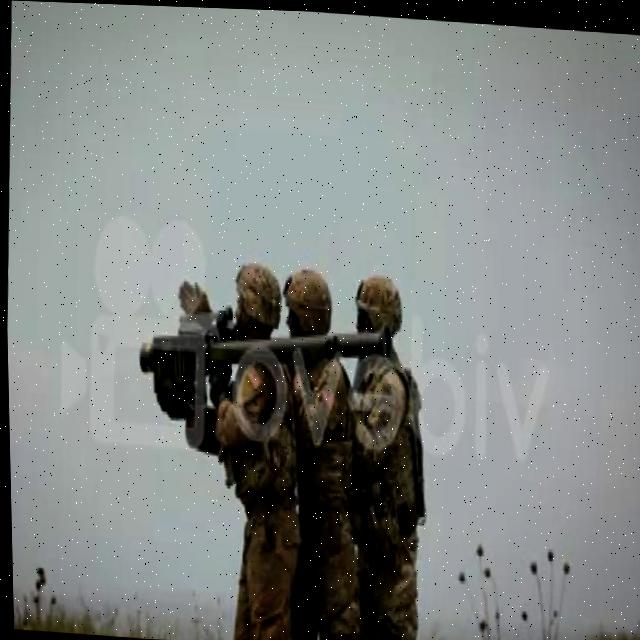rocket: (139, 306, 392, 387)
